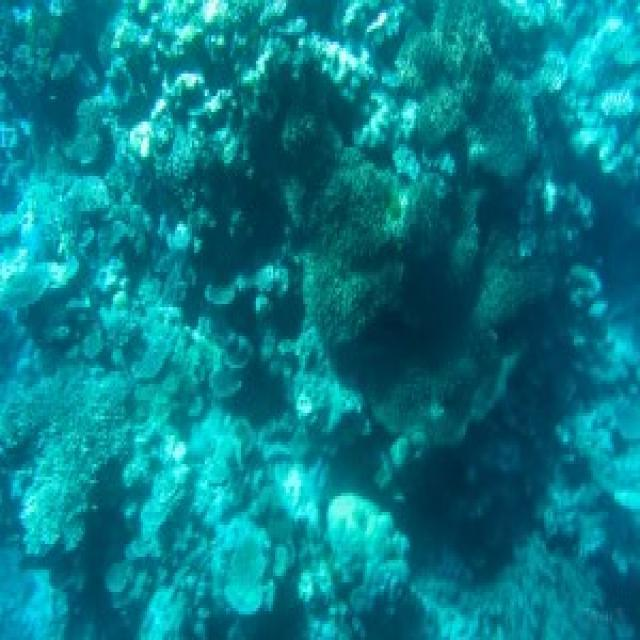Bleached: (135, 433, 420, 640), (317, 37, 421, 184), (559, 1, 640, 163)
Healthy: (372, 170, 545, 437), (252, 88, 424, 351), (1, 347, 132, 531), (409, 1, 539, 180), (1, 1, 117, 165)
